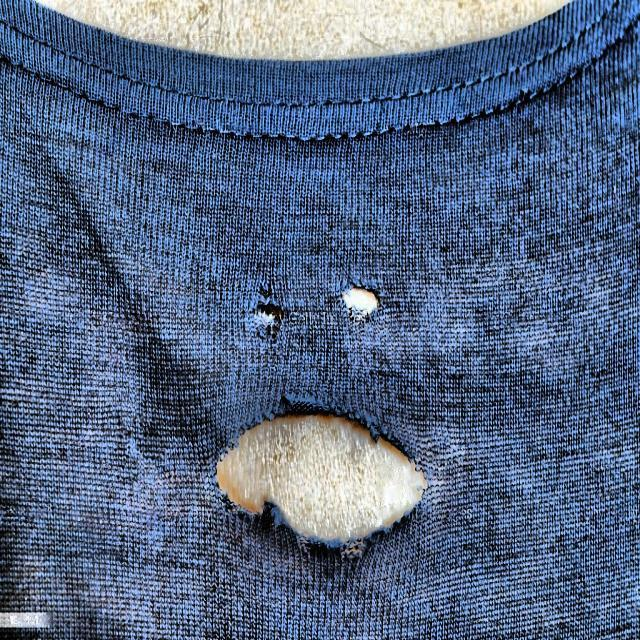cut: (204, 383, 440, 562), (228, 269, 305, 355), (328, 270, 395, 331)
